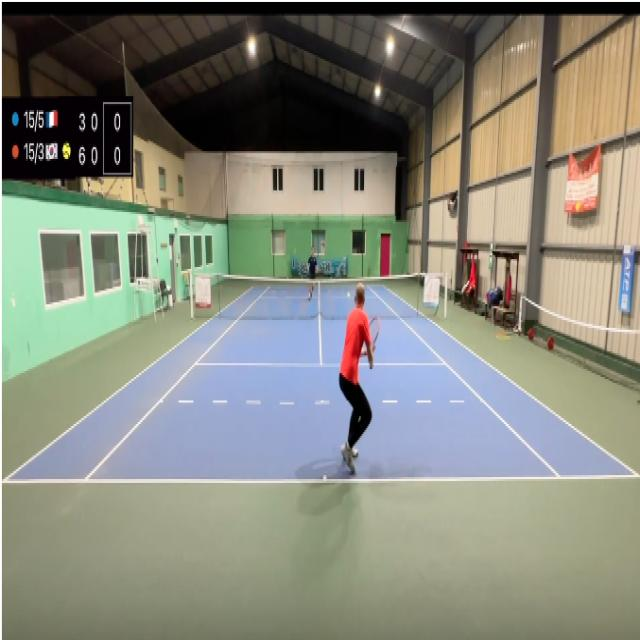ball: (347, 291, 350, 299)
